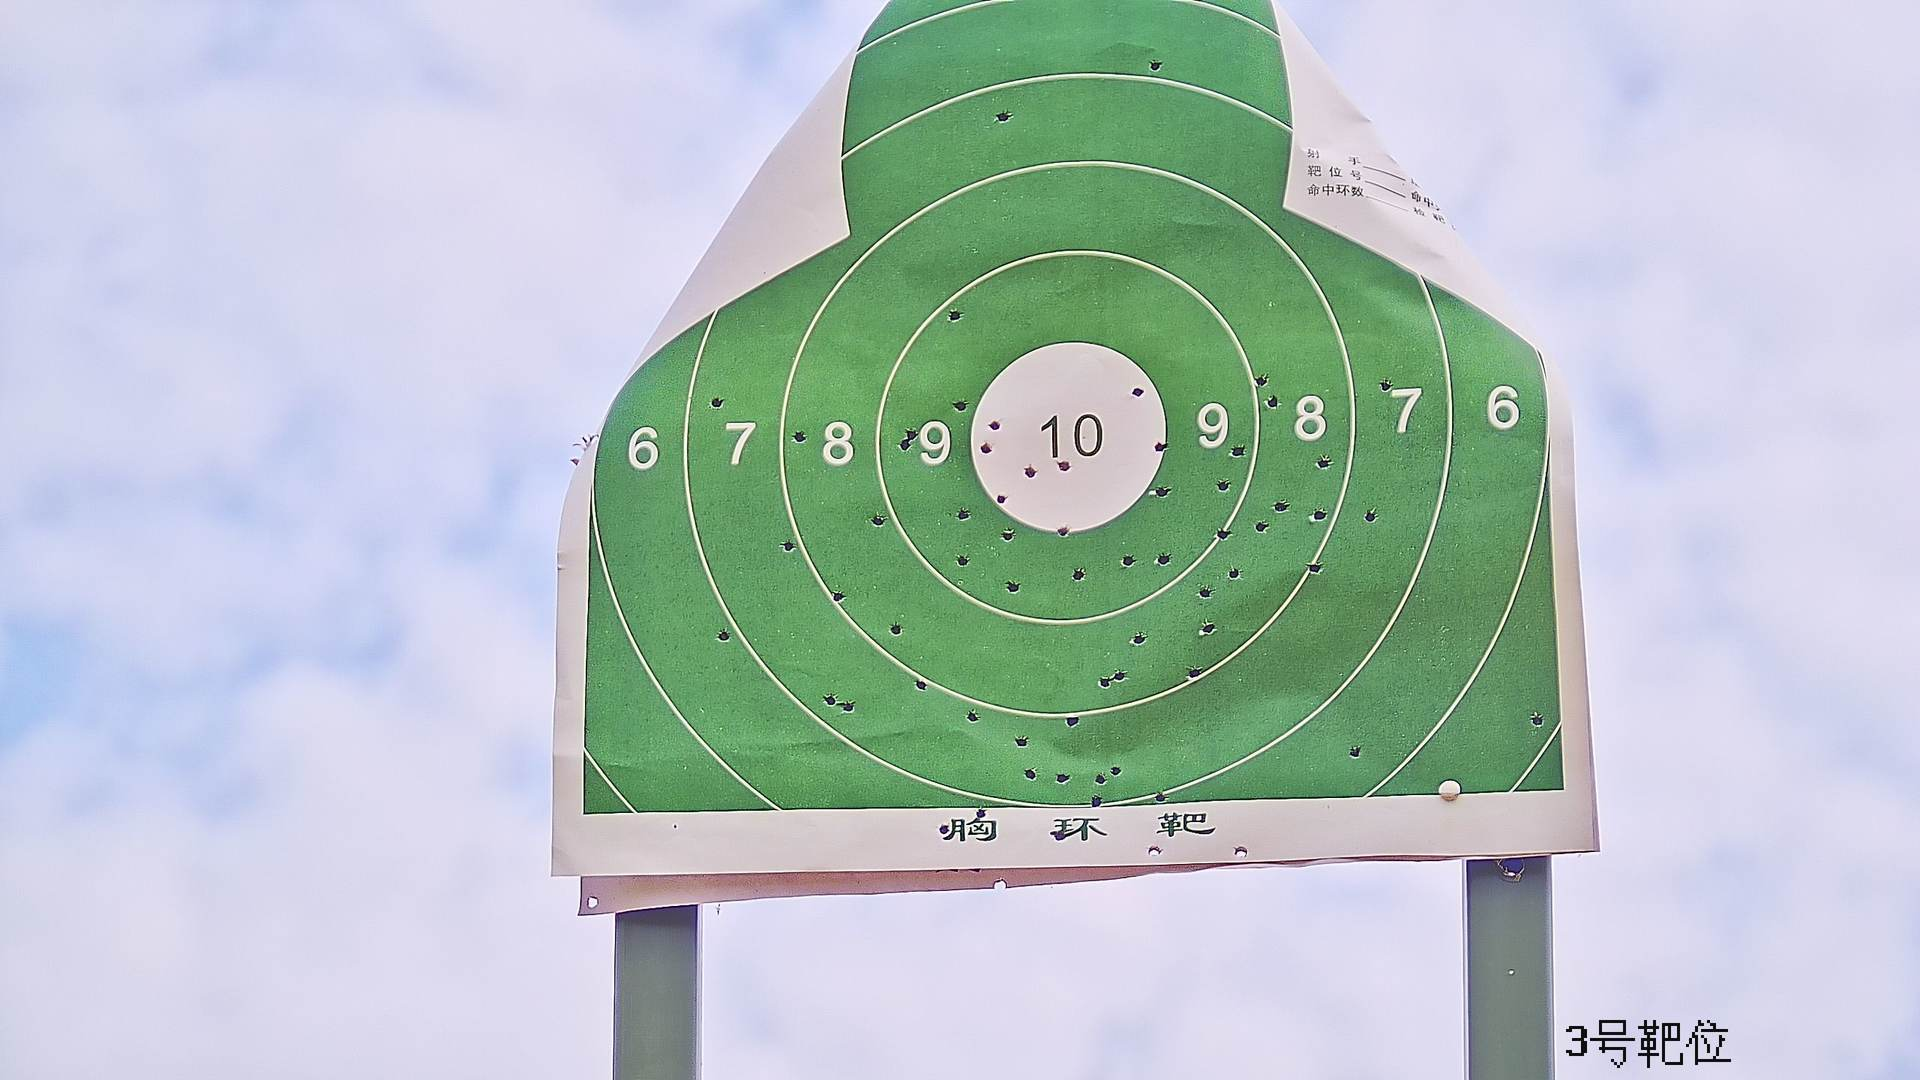hole: (1065, 712, 1083, 729), (1022, 465, 1039, 481), (781, 535, 795, 554), (1232, 847, 1251, 860), (1149, 58, 1164, 74), (889, 621, 905, 637), (1054, 771, 1071, 786), (1013, 736, 1030, 750), (1156, 484, 1172, 498), (1185, 665, 1201, 679), (1001, 527, 1015, 543), (872, 512, 886, 527), (1230, 444, 1247, 458), (1131, 632, 1149, 645), (1156, 551, 1171, 566), (938, 822, 952, 836), (905, 426, 919, 440), (994, 109, 1010, 123), (1197, 585, 1213, 599), (1201, 618, 1217, 632), (1153, 791, 1168, 804), (1114, 669, 1127, 684), (953, 398, 969, 411), (843, 698, 856, 713), (717, 628, 731, 644), (1273, 501, 1291, 512), (1265, 394, 1279, 407), (1217, 527, 1232, 541), (1364, 509, 1377, 524), (1346, 742, 1360, 757), (1530, 713, 1543, 728), (1089, 794, 1102, 808), (1025, 767, 1039, 781), (1122, 553, 1135, 567), (1007, 579, 1021, 593), (956, 506, 969, 521), (832, 589, 847, 603), (708, 396, 724, 407), (1228, 564, 1240, 580), (1096, 676, 1112, 688), (915, 676, 927, 692), (1155, 440, 1168, 454), (1313, 509, 1327, 522), (1309, 560, 1323, 574), (965, 709, 978, 723), (1254, 375, 1269, 386), (1379, 377, 1391, 392), (823, 694, 837, 705), (948, 307, 961, 319), (793, 429, 806, 440), (1131, 386, 1145, 398), (1317, 455, 1331, 467), (1150, 844, 1163, 856), (1110, 764, 1124, 775), (975, 806, 988, 818), (1056, 460, 1069, 472), (989, 418, 1002, 430), (899, 439, 911, 452), (1073, 570, 1085, 582), (956, 553, 968, 564), (1255, 520, 1266, 533), (1058, 525, 1068, 538), (980, 440, 990, 454), (1096, 773, 1106, 785), (1056, 829, 1068, 840), (994, 493, 1007, 502), (1218, 479, 1229, 489)
kernel: (1065, 436, 1073, 442)
target: (588, 9, 1575, 803)
ten: (972, 338, 1160, 538)
